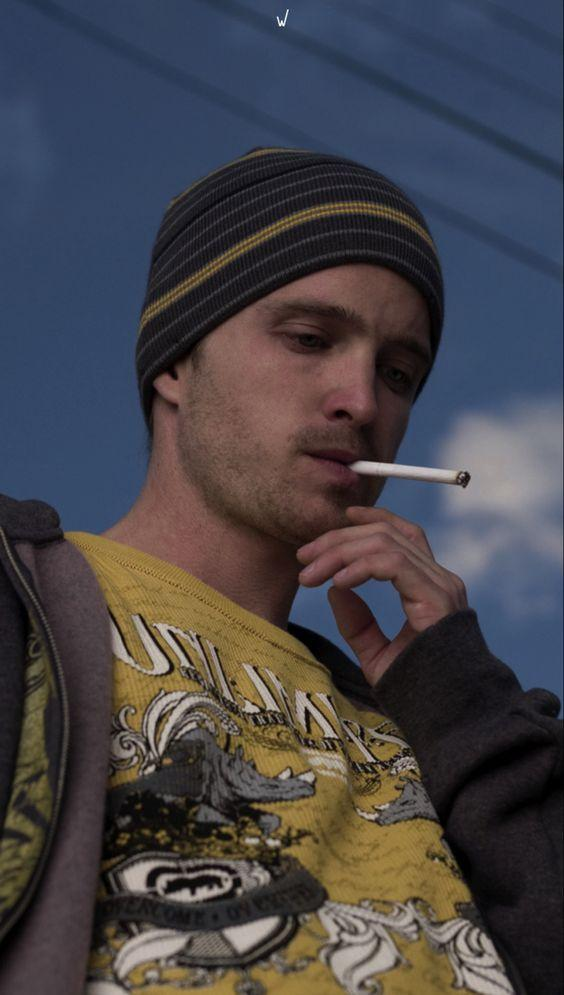cigarette: (347, 460, 469, 485)
